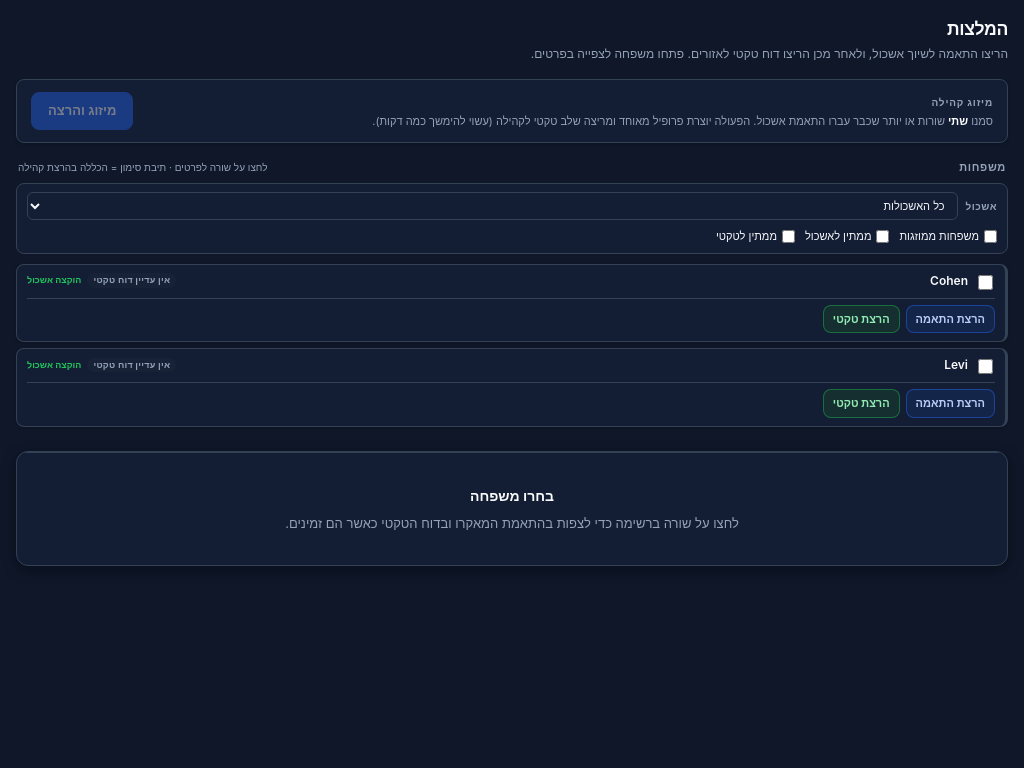
it: RecommendationsPanel integration › shows filter-empty state when no rows match active filters
Expected: the text "Cohen" is shown, [930, 273, 968, 288]
Click the checkbox labelled "ממתין לאשכול" at (883, 236), box [876, 230, 890, 243]
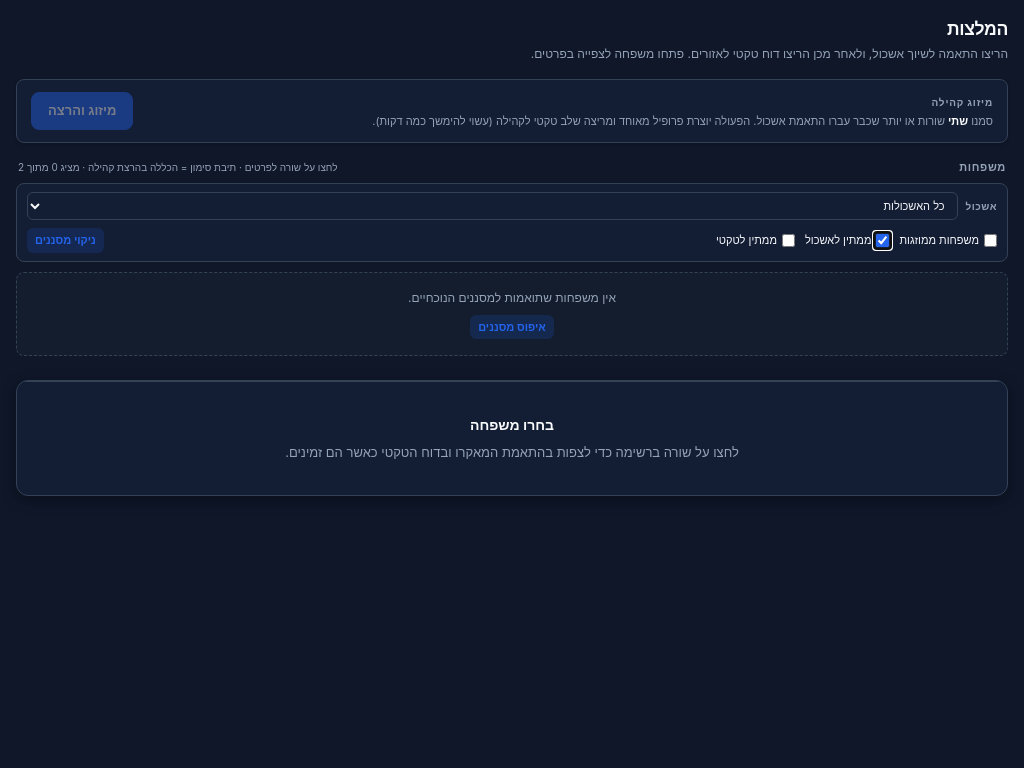
Now the text "אין משפחות שתואמות למסננים הנוכחיים." is shown, box [408, 290, 616, 305]
